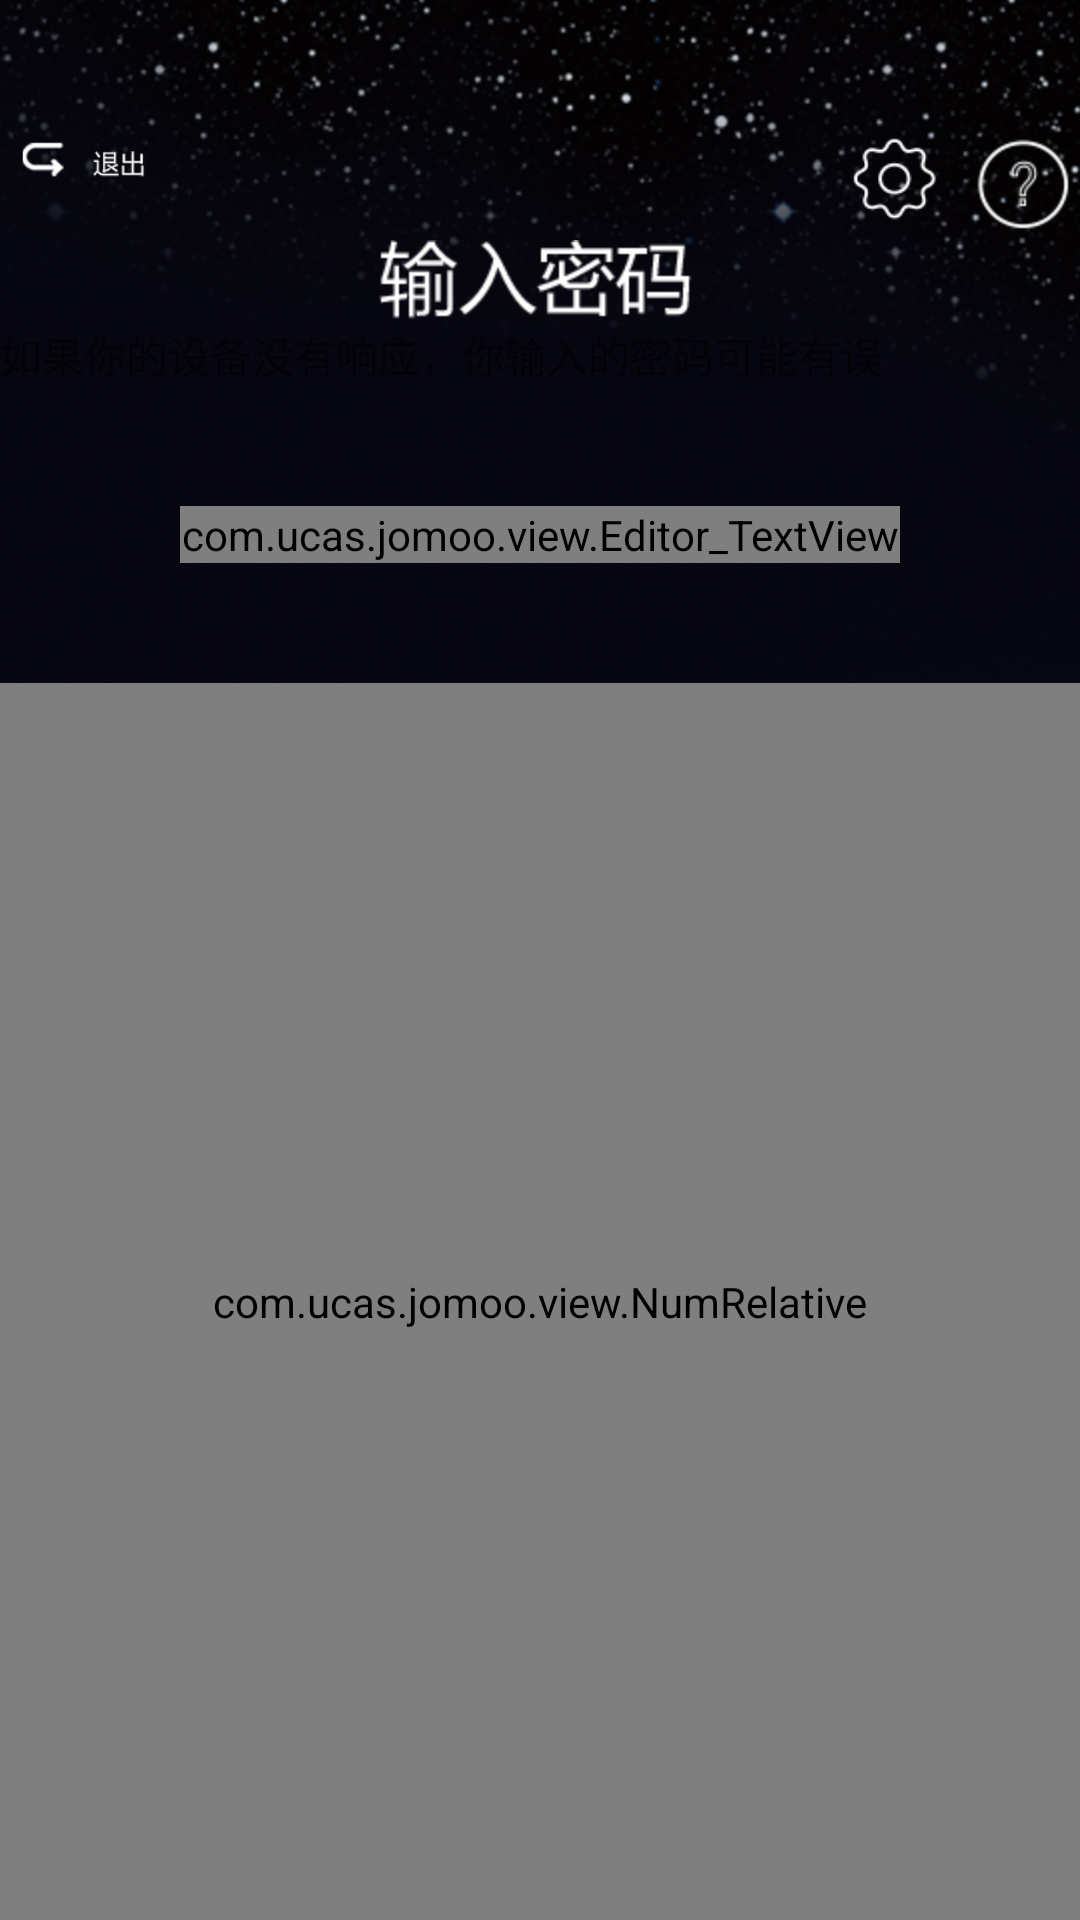

Icon bounding boxes for this 1080*1920 phone screenshot, format region(x1, y1, x2, y2):
help: region(962, 120, 1080, 240)
setter: region(838, 120, 962, 240)
